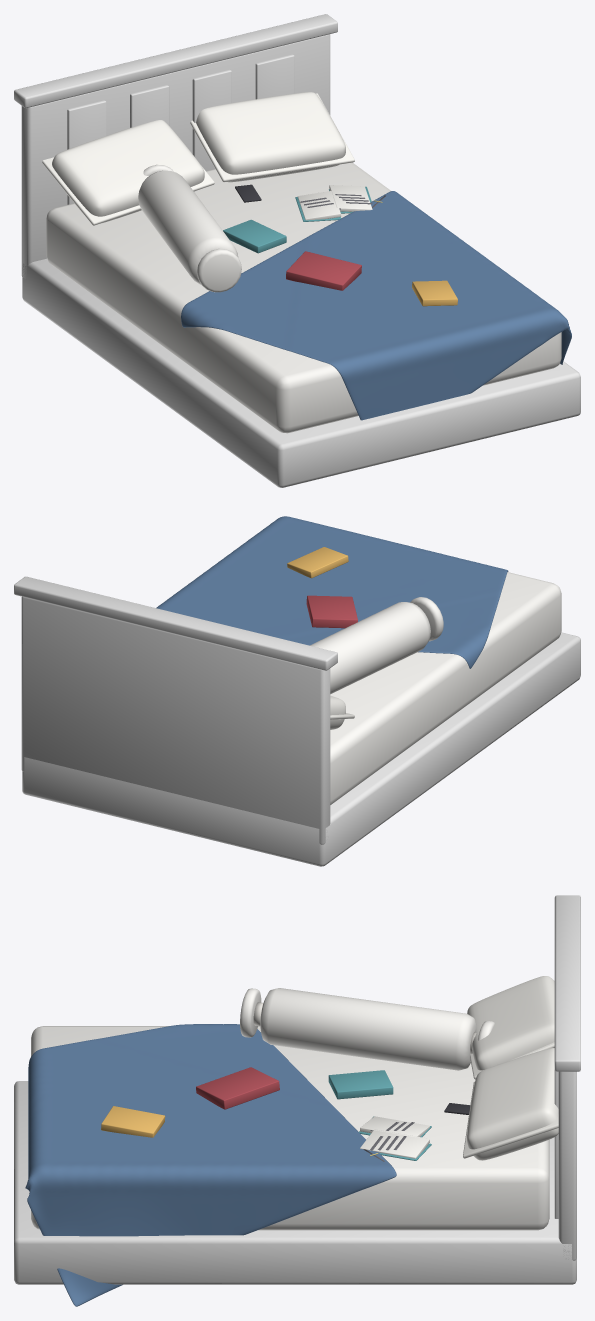
The model's file is Indo_Bed_Messy_Physics.fbx.
3 views of the same model, one above another, from view 1: azimuth 30°, elevation 25°; view 2: azimuth 150°, elevation 25°; view 3: azimuth 270°, elevation 25° (orthographic). The views are drawn at different scales.
Visible parts, largest first — view 1: Rangka_Dipan_Jati, SelimutClothPhysics, KasurSpringbed, Bantal_R, Bantal_L, Guling_Indo_Authentic, Props_Buku_Aksesoris; view 2: Rangka_Dipan_Jati, SelimutClothPhysics, KasurSpringbed, Guling_Indo_Authentic, Props_Buku_Aksesoris, Bantal_L; view 3: SelimutClothPhysics, Rangka_Dipan_Jati, KasurSpringbed, Guling_Indo_Authentic, Bantal_R, Props_Buku_Aksesoris, Bantal_L.
Boxes of the visible parts, box(x1,y1,x2,y2) form: Rangka_Dipan_Jati: box(14, 14, 580, 487); SelimutClothPhysics: box(181, 191, 571, 420); KasurSpringbed: box(46, 162, 561, 433); Bantal_R: box(190, 92, 354, 182); Bantal_L: box(42, 120, 214, 225); Guling_Indo_Authentic: box(138, 164, 241, 292); Props_Buku_Aksesoris: box(223, 184, 457, 306); Rangka_Dipan_Jati: box(14, 576, 580, 866); SelimutClothPhysics: box(156, 516, 508, 668); KasurSpringbed: box(330, 572, 561, 804); Guling_Indo_Authentic: box(310, 597, 443, 694); Props_Buku_Aksesoris: box(287, 547, 357, 628); Bantal_L: box(330, 695, 354, 729); SelimutClothPhysics: box(25, 1024, 396, 1306); Rangka_Dipan_Jati: box(14, 895, 580, 1284); KasurSpringbed: box(31, 1026, 549, 1230); Guling_Indo_Authentic: box(240, 988, 494, 1070); Bantal_R: box(463, 1048, 558, 1160); Props_Buku_Aksesoris: box(101, 1067, 470, 1161); Bantal_L: box(467, 976, 554, 1079).
Bounding box in the file's own units: 153 × 102 × 216.
